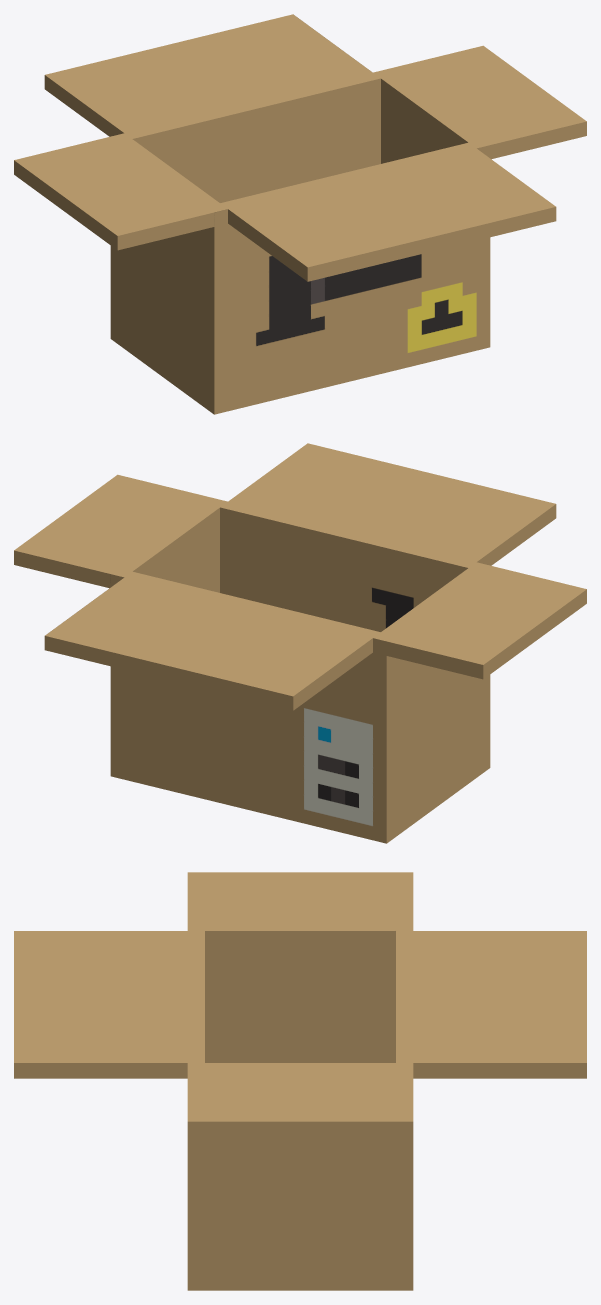
The model's file is IKEA_CajaMartillo.fbx.
3 views of the same model, one above another, from view 1: azimuth 30°, elevation 25°; view 2: azimuth 150°, elevation 25°; view 3: azimuth 270°, elevation 25° (orthographic). The views are drawn at different scales.
Parts seen in each view (by area): view 1: IKEA_CajaMartillo; view 2: IKEA_CajaMartillo; view 3: IKEA_CajaMartillo.
Boxes of the visible parts, left/top/right/bottom form: IKEA_CajaMartillo: left=14, top=14, right=586, bottom=414; IKEA_CajaMartillo: left=14, top=443, right=586, bottom=843; IKEA_CajaMartillo: left=14, top=872, right=586, bottom=1290.
Bounding box in the file's own units: 340 × 330 × 140.
